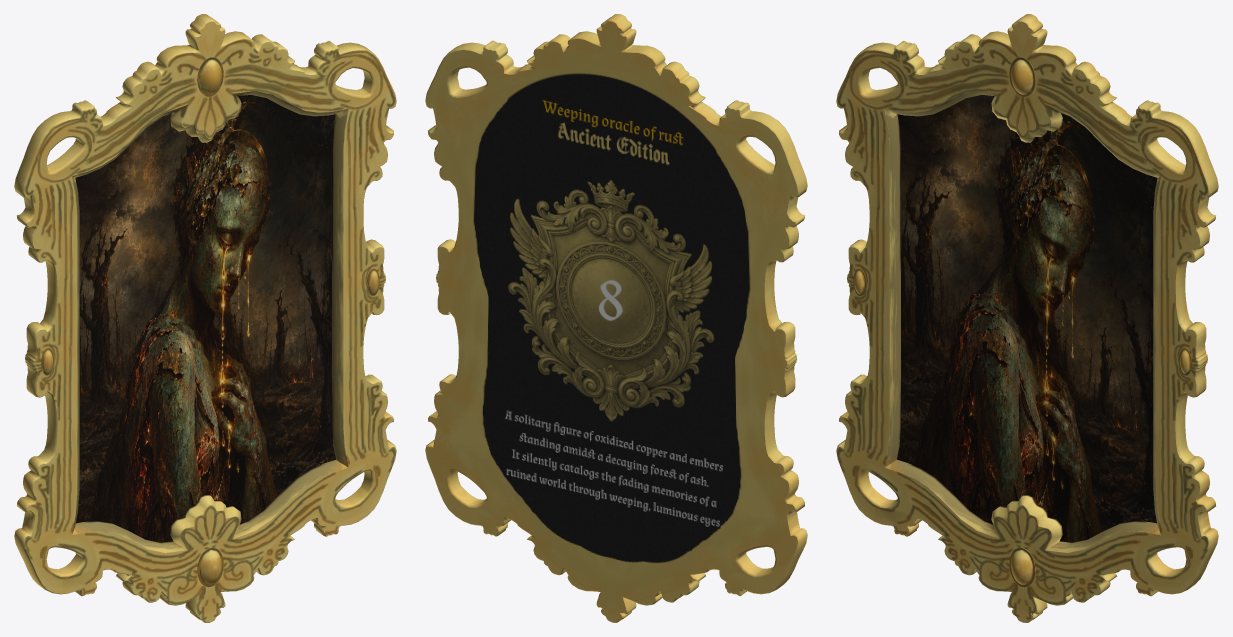
Rendered from nft8.glb.
The picture shows the model from 3 angles, left to right: view 1: azimuth 30°, elevation 25°; view 2: azimuth 150°, elevation 25°; view 3: azimuth 330°, elevation 25°; orthographic projection.
Parts seen in each view (by area): view 1: LIENZO, MARCO (×2); view 2: MARCO; view 3: LIENZO, MARCO (×2).
Part boxes in pixels (box(x1,y1,x2,y2)): LIENZO: box(75, 95, 335, 542); MARCO (×2): box(14, 14, 396, 622); MARCO: box(425, 14, 807, 622); LIENZO: box(897, 95, 1157, 542); MARCO (×2): box(836, 14, 1218, 622).
Bounding box in the file's own units: 0.5162 × 0.7939 × 0.0348.
Materials: 3 (3 with a texture image).
